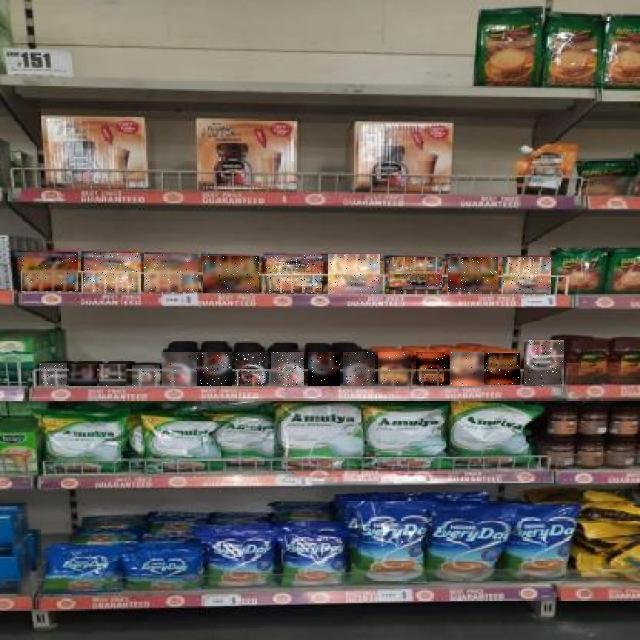Coffee: (22, 252, 78, 291), (85, 253, 141, 292), (266, 255, 322, 293), (328, 254, 380, 294), (203, 256, 259, 293), (145, 254, 199, 292), (389, 258, 442, 294), (524, 340, 564, 386), (448, 258, 498, 294), (503, 257, 551, 294), (162, 352, 198, 386), (197, 352, 232, 386), (450, 352, 484, 386), (235, 352, 268, 386), (271, 352, 304, 386), (416, 352, 449, 386), (378, 352, 411, 386), (343, 352, 375, 386), (486, 353, 520, 385), (308, 352, 340, 386), (100, 365, 130, 387), (39, 363, 67, 386), (69, 365, 97, 387), (132, 365, 160, 386)
